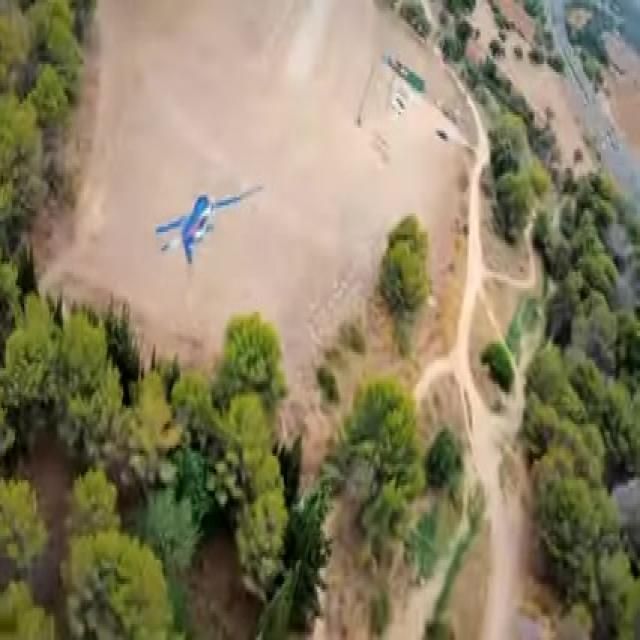iha: (187, 213, 232, 236)
